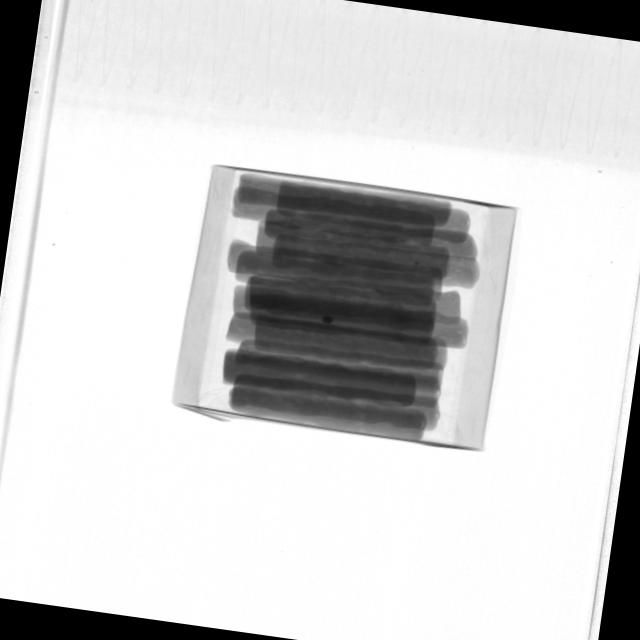ym: (321, 315, 334, 325), (415, 261, 420, 266)
